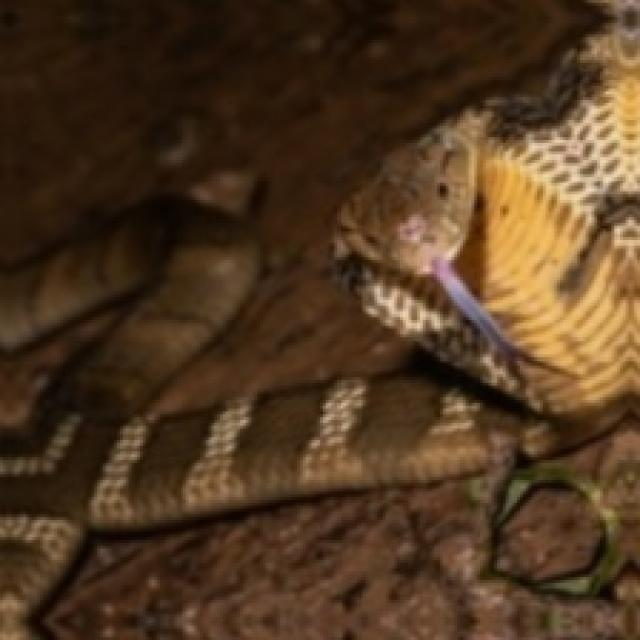king cobra: (0, 0, 637, 637), (86, 417, 151, 520)
